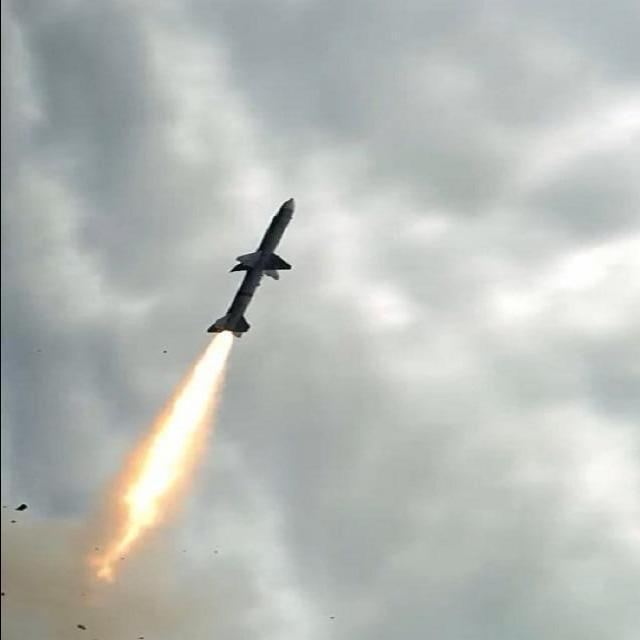missile: (208, 197, 300, 337)
